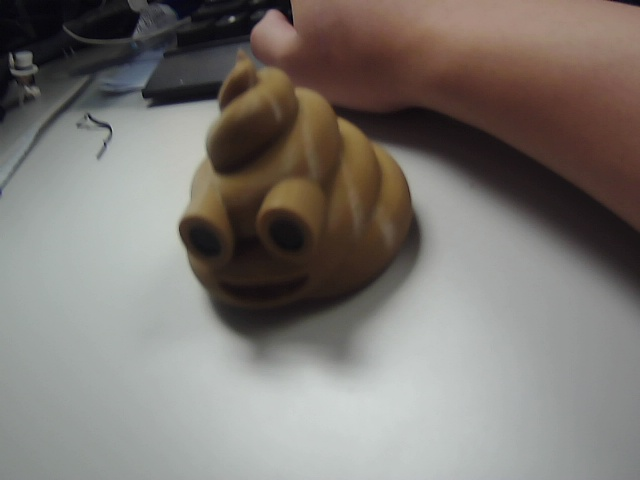shit: (159, 42, 430, 317)
